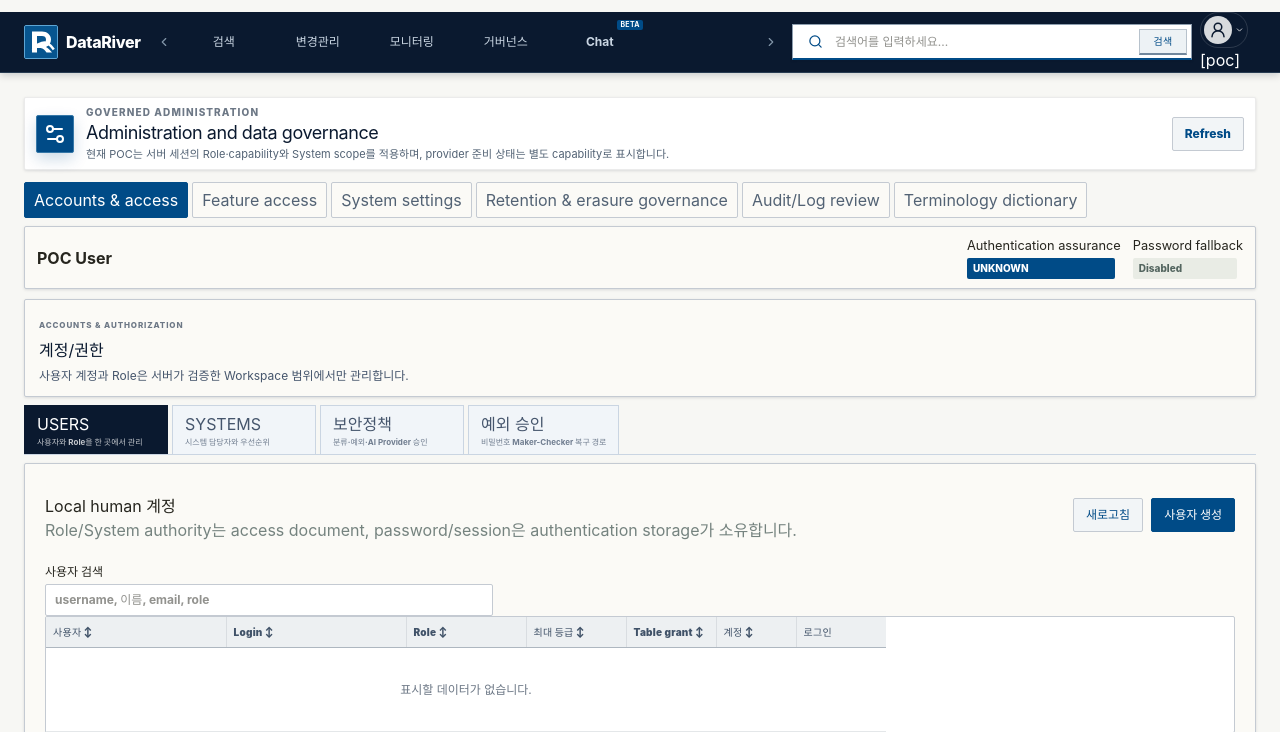
Test: POC compatibility application › shows the bounded POC user and system settings administration surfaces
Expected: the heading "Administration and data governance" is shown, [86, 122, 378, 143]
Expected: the heading "계정/권한" is shown, [39, 340, 104, 360]
Click the tab "System settings" at (401, 200), box [331, 182, 472, 218]
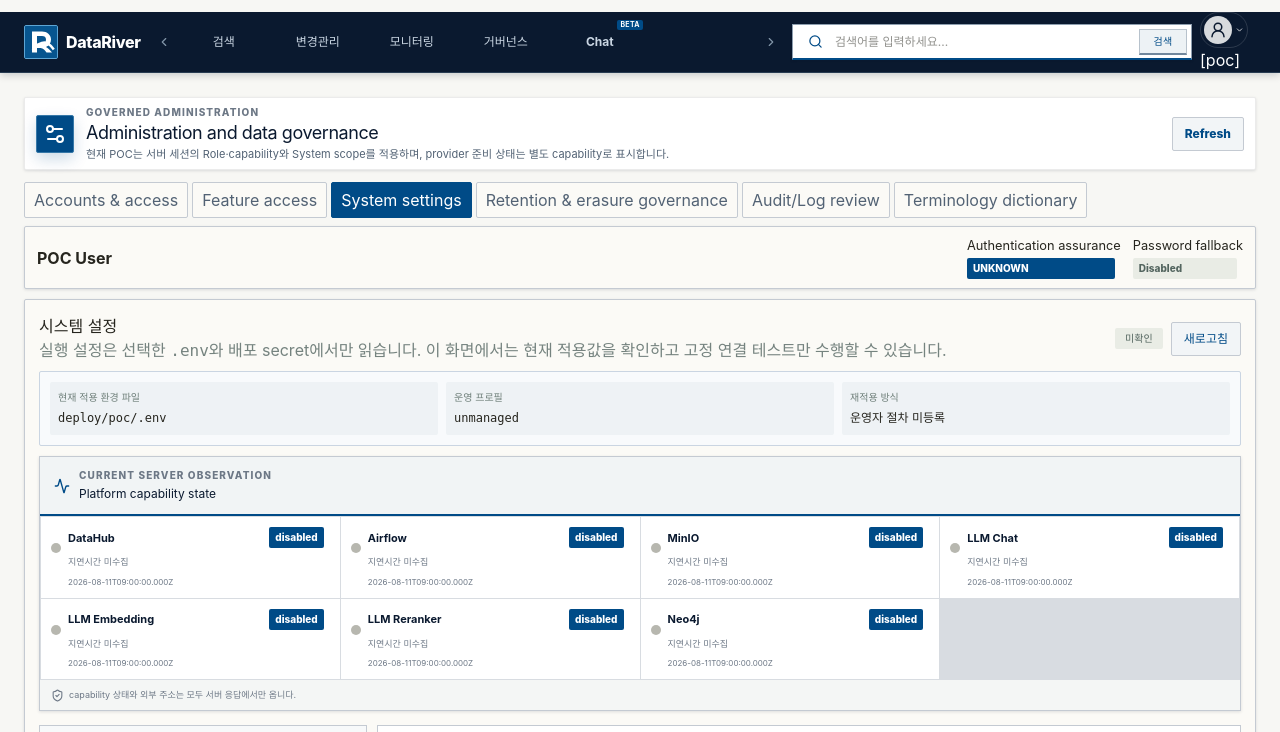
Expected: the tab "Feature access" is shown, [192, 182, 327, 218]
Expected: the heading "시스템 설정" is shown, [39, 316, 117, 336]
